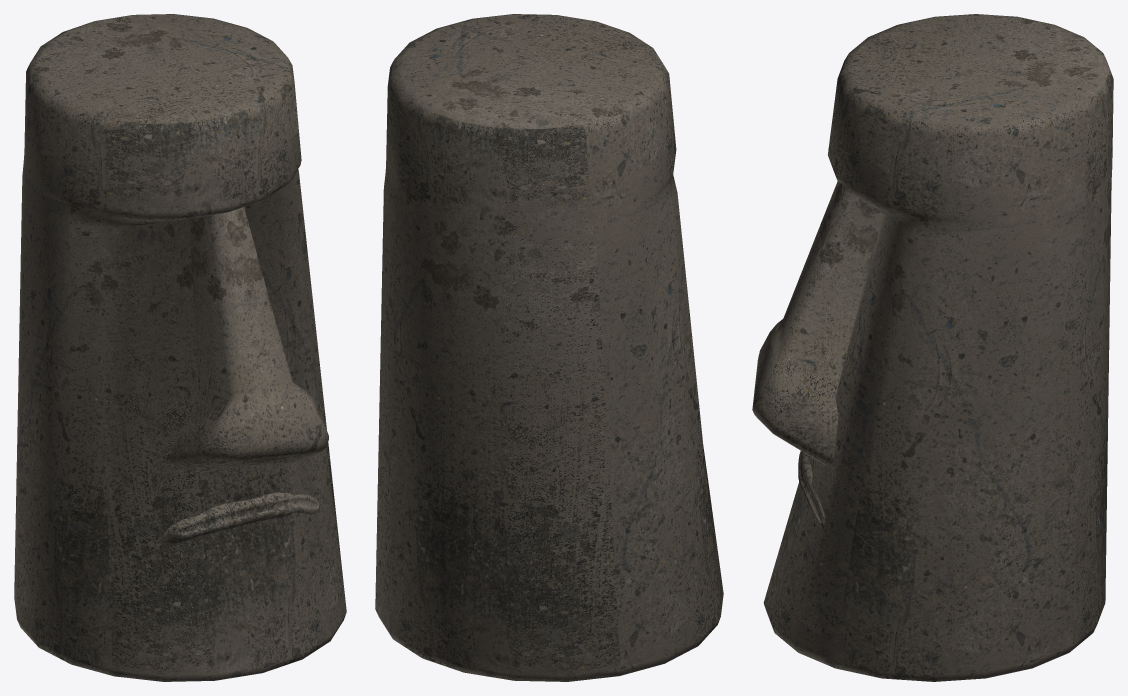
File: moai.glb
3 renders of one model, left to right at view 1: azimuth 30°, elevation 25°; view 2: azimuth 150°, elevation 25°; view 3: azimuth 270°, elevation 25°, orthographic. The views are drawn at different scales.
Parts seen in each view (by area): view 1: Moai_head_statue_Concrete_Dirty_0; view 2: Moai_head_statue_Concrete_Dirty_0; view 3: Moai_head_statue_Concrete_Dirty_0.
Part boxes in pixels (x1,y1,x2,y2): Moai_head_statue_Concrete_Dirty_0: (14,14,346,681); Moai_head_statue_Concrete_Dirty_0: (375,14,723,681); Moai_head_statue_Concrete_Dirty_0: (752,14,1113,681).
Size of the model in its own units: 1.59 by 2.82 by 1.68.
1 material, 1 textured.
